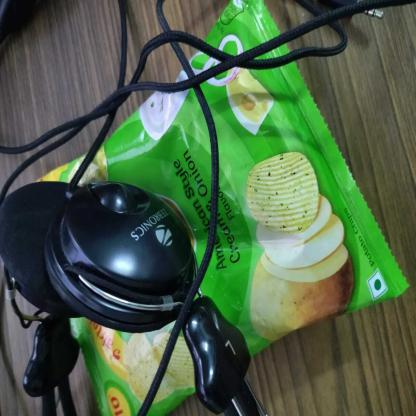cream_and_onion: (181, 38, 414, 403)
